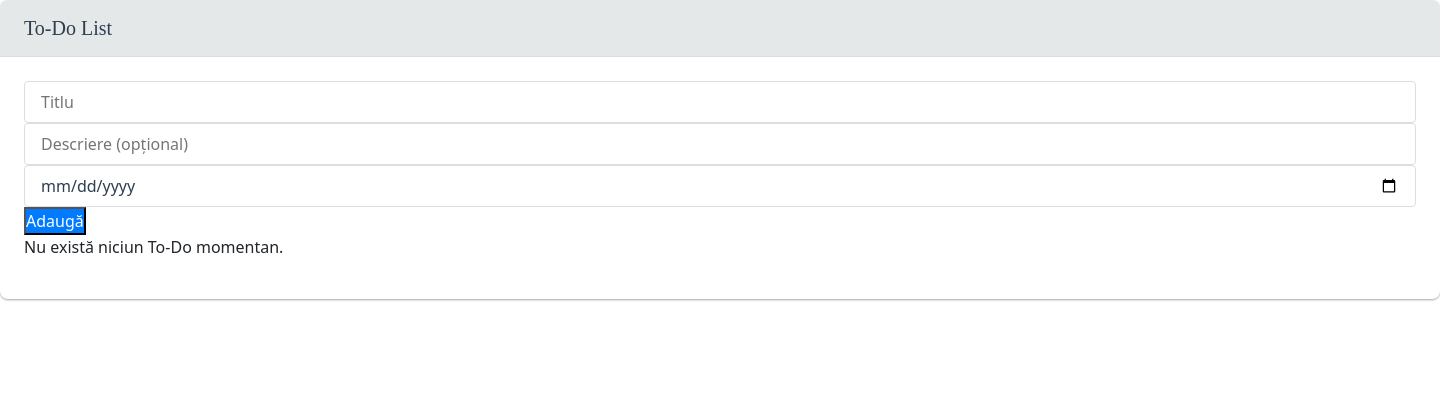
Test: TodoSection › trimite POST la adăugarea unui To-Do nou și reîncarcă lista
Expected: the text "Nu există niciun To-Do momentan." is shown, 24,236 -> 283,258
Type "New Task" into the field with placeholder "Titlu" at (720, 102), box 24,81 -> 1416,123
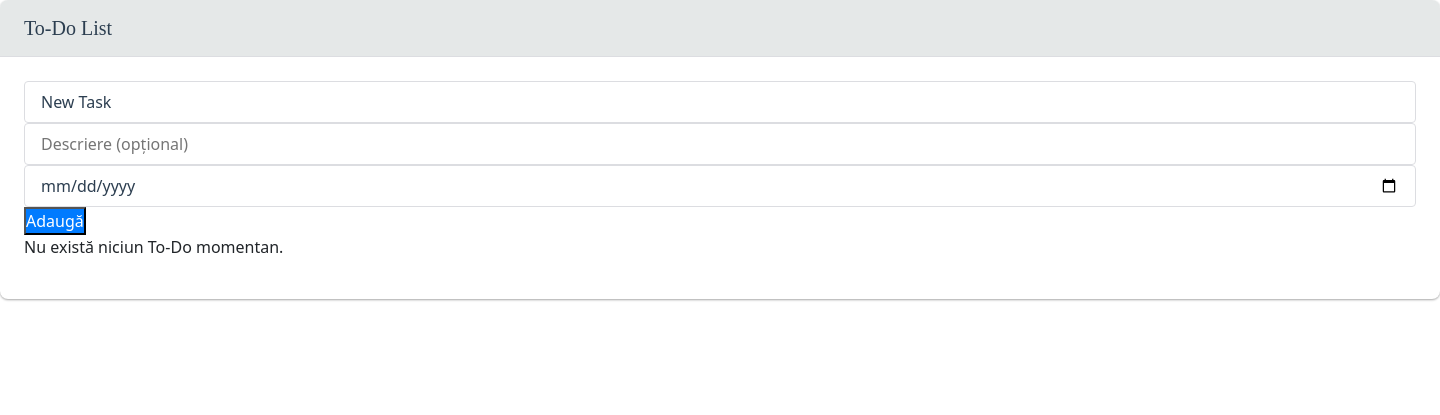
Type "Desc" into the field with placeholder "Descriere (opțional)" at (720, 144), box 24,123 -> 1416,165
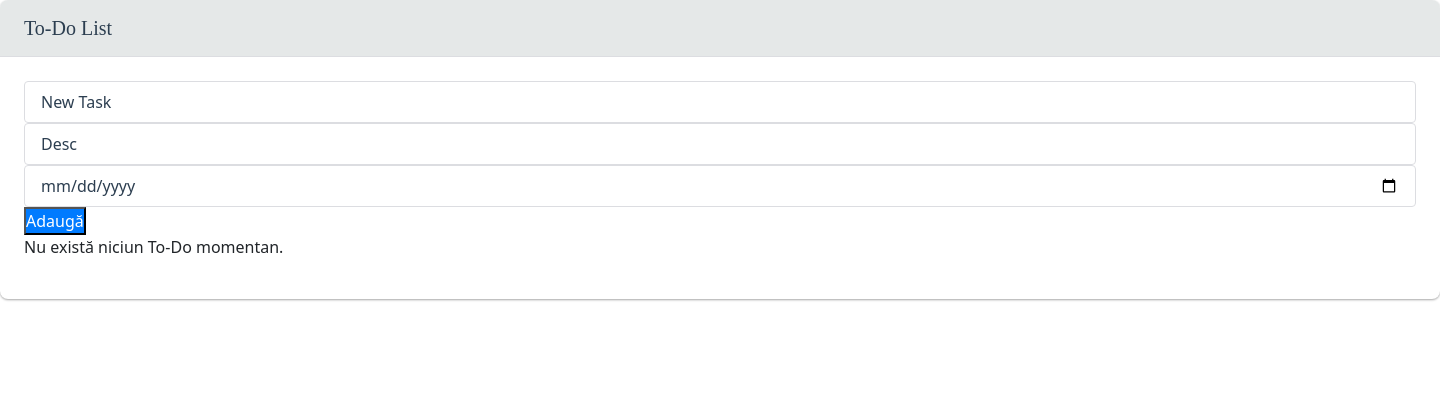
Type "2025-08-01" into the date field at (720, 186), box 24,165 -> 1416,207
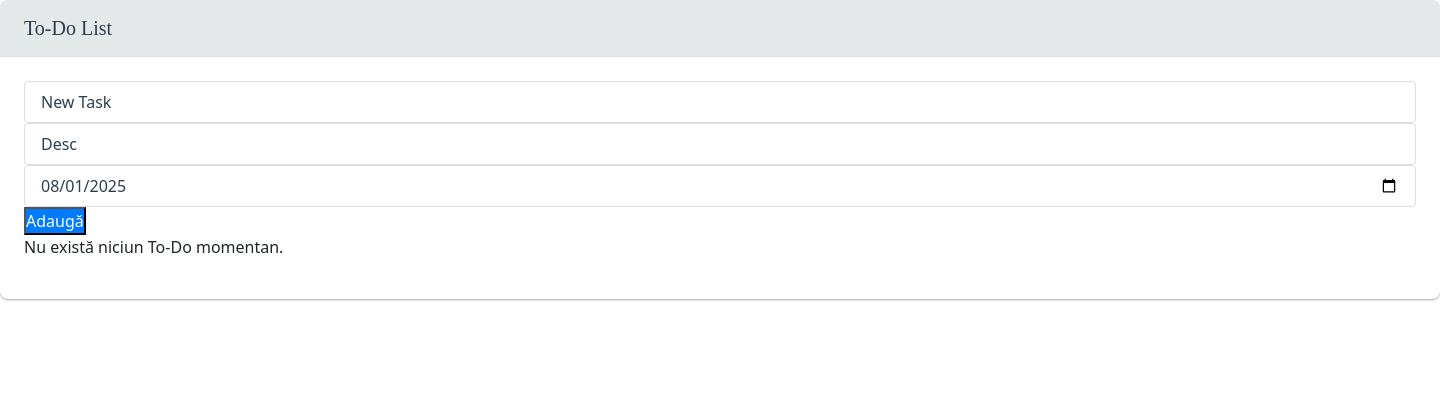
Click the button "Adaugă" at (55, 221), box 24,207 -> 86,235
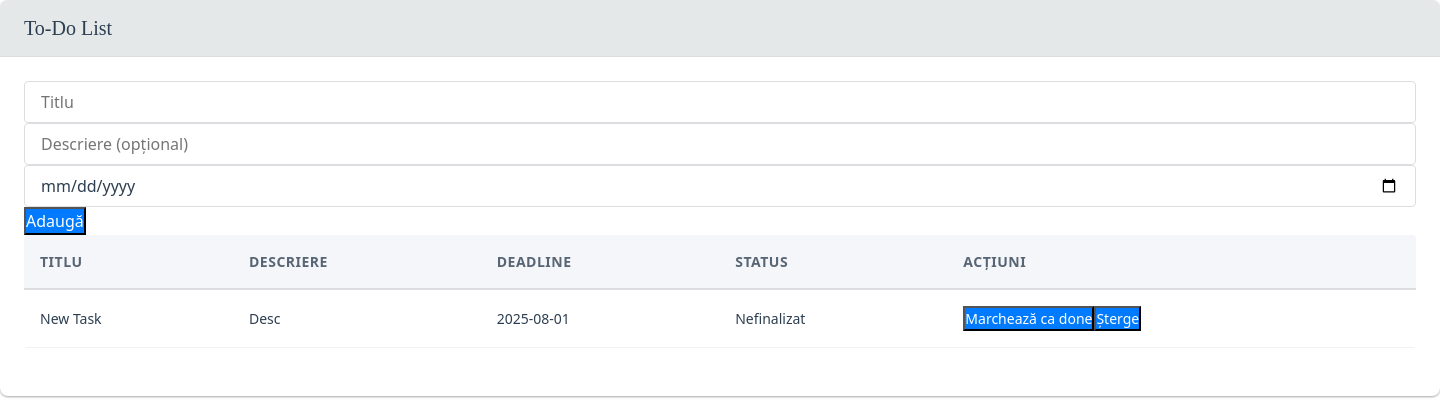
Now the text "New Task" is shown, box 24,289 -> 233,348
